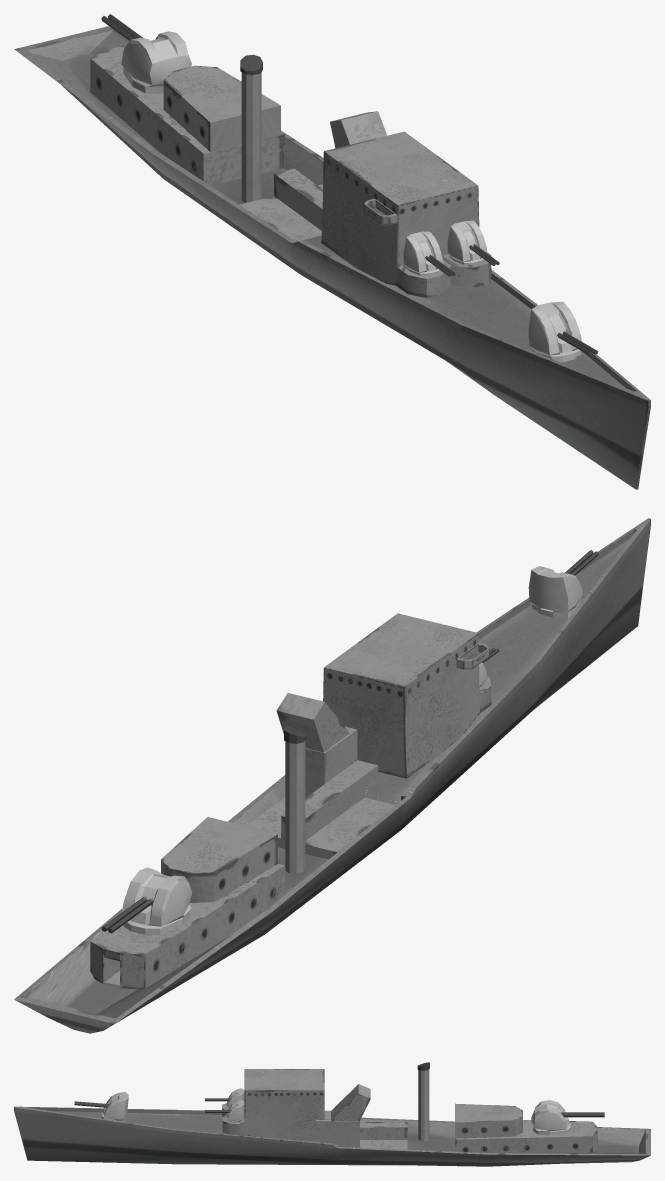
File: NoordBrabantSubhunter.fbx
3 views of the same model, one above another, from view 1: azimuth 30°, elevation 25°; view 2: azimuth 150°, elevation 25°; view 3: azimuth 270°, elevation 25° (orthographic). The views are drawn at different scales.
Parts seen in each view (by area): view 1: Hull, Kabine_blok, Kanonmain (×4), Blok_eind, Bloktop_eind, Middenblok, Pijp; view 2: Hull, Kabine_blok, Middenblok, Blok_eind, Bloktop_eind, Kanonmain (×2), Pijp; view 3: Hull, Kabine_blok, Middenblok, Blok_eind, Kanonmain (×4), Bloktop_eind, Pijp.
Part boxes in pixels (<box>): Hull: <box>14,26,650,489</box>; Kabine_blok: <box>321,131,491,297</box>; Kanonmain (×4): <box>121,31,581,362</box>; Blok_eind: <box>90,45,284,185</box>; Bloktop_eind: <box>163,65,280,152</box>; Middenblok: <box>239,111,386,241</box>; Pijp: <box>240,54,262,202</box>; Hull: <box>14,518,650,1033</box>; Kabine_blok: <box>323,613,491,778</box>; Middenblok: <box>246,693,395,859</box>; Blok_eind: <box>90,863,284,989</box>; Bloktop_eind: <box>161,817,277,902</box>; Kanonmain (×2): <box>122,566,582,934</box>; Pijp: <box>284,727,306,873</box>; Hull: <box>14,1106,650,1166</box>; Kabine_blok: <box>222,1069,324,1140</box>; Middenblok: <box>316,1084,407,1149</box>; Blok_eind: <box>455,1120,597,1152</box>; Kanonmain (×4): <box>101,1088,570,1135</box>; Bloktop_eind: <box>455,1103,522,1138</box>; Pijp: <box>417,1062,429,1141</box>.
Bounding box in the file's own units: 13.42 × 18.59 × 114.
7 materials, 7 textured.
